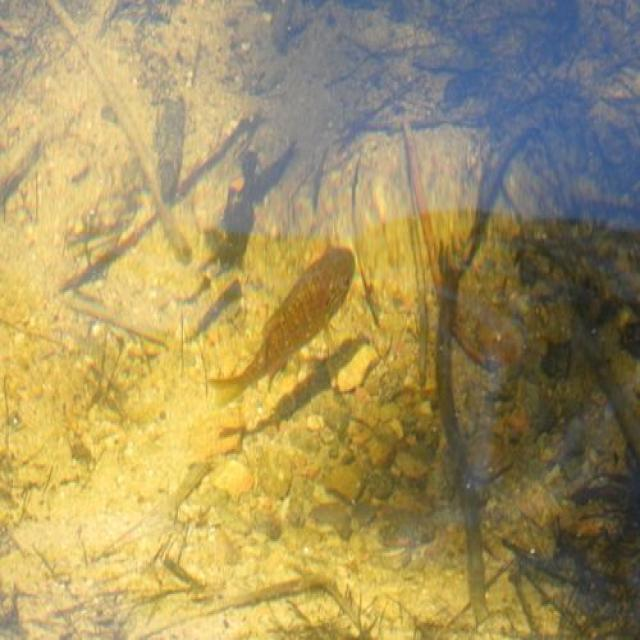Gunes Levregi: (208, 240, 360, 405)
